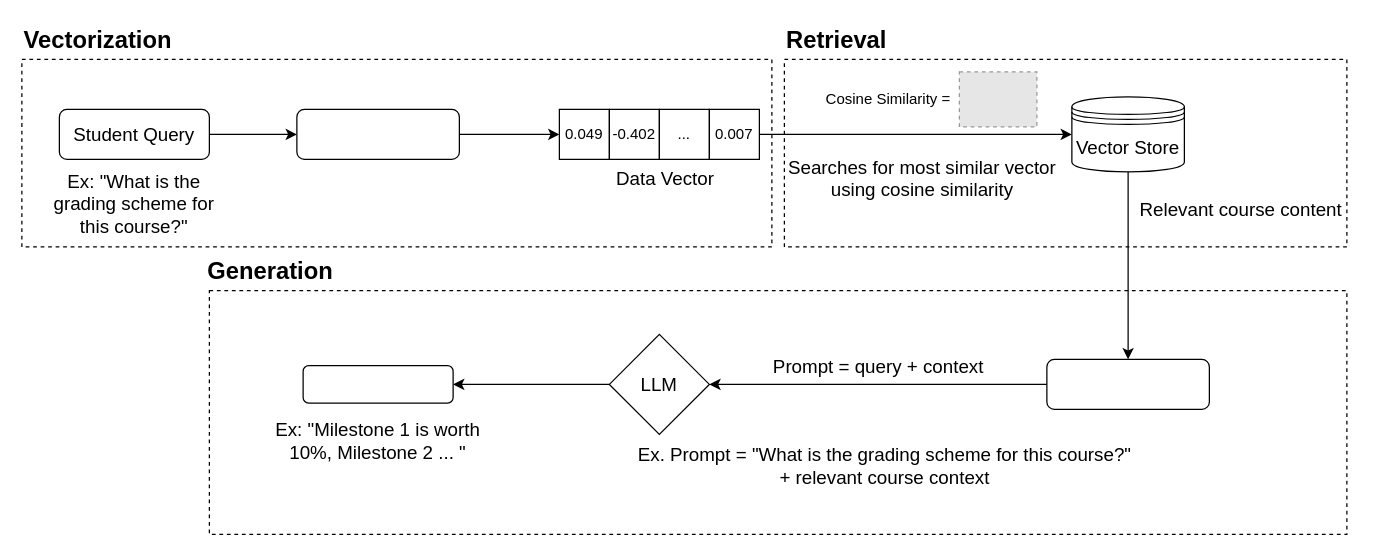
Some shapes in this 1381 by 556 pixel diagram are drawn without their labels. Grey dashed boxes stand in for pictures. The shapes that lost their labels are listed below. From the top down, each one's centre as x and y in pixels, then its label:
the point at 377,133: Embedding Model
the point at 377,383: Answer
the point at 1127,383: Prompt Generation
